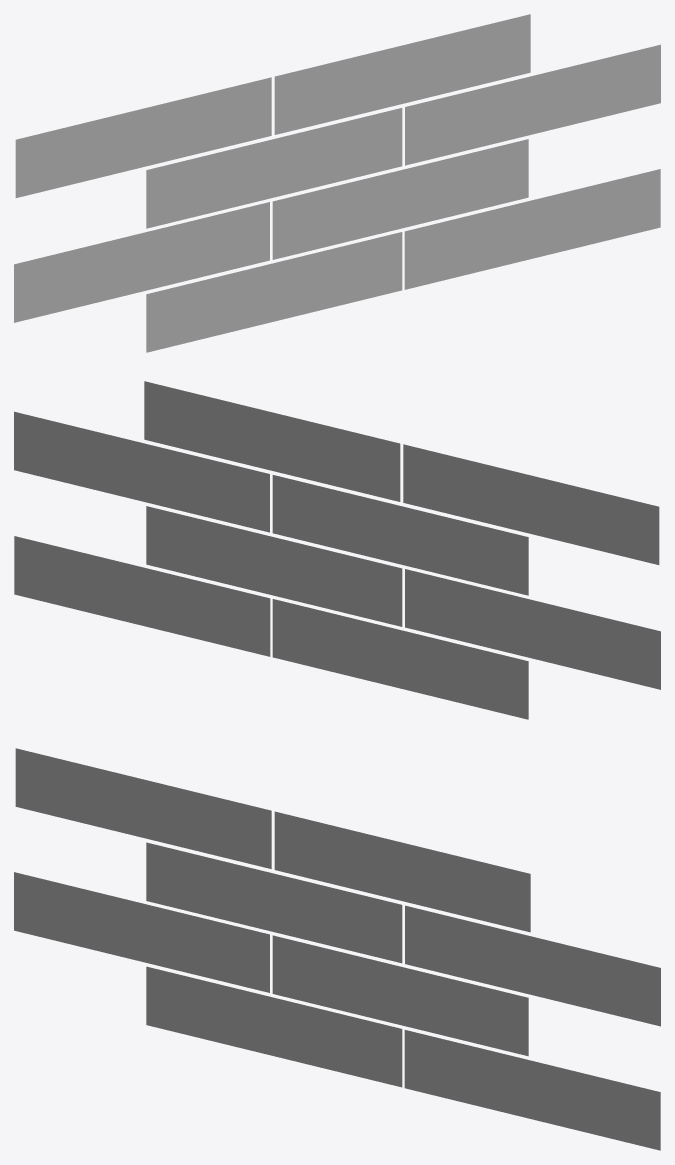
The model's file is brickbondlarge.gltf.
3 renders of one model, top to bottom at view 1: azimuth 30°, elevation 25°; view 2: azimuth 150°, elevation 25°; view 3: azimuth 330°, elevation 25°, orthographic.
Parts seen in each view (by area): view 1: brickbondlarge; view 2: brickbondlarge; view 3: brickbondlarge.
Boxes of the visible parts, x1,y1,x2,y2 form: brickbondlarge: [14, 14, 660, 352]; brickbondlarge: [14, 381, 660, 719]; brickbondlarge: [14, 748, 660, 1150].
Bounding box in the file's own units: 514 × 186 × 2.26e-14.
Materials: 8 (8 with a texture image).
